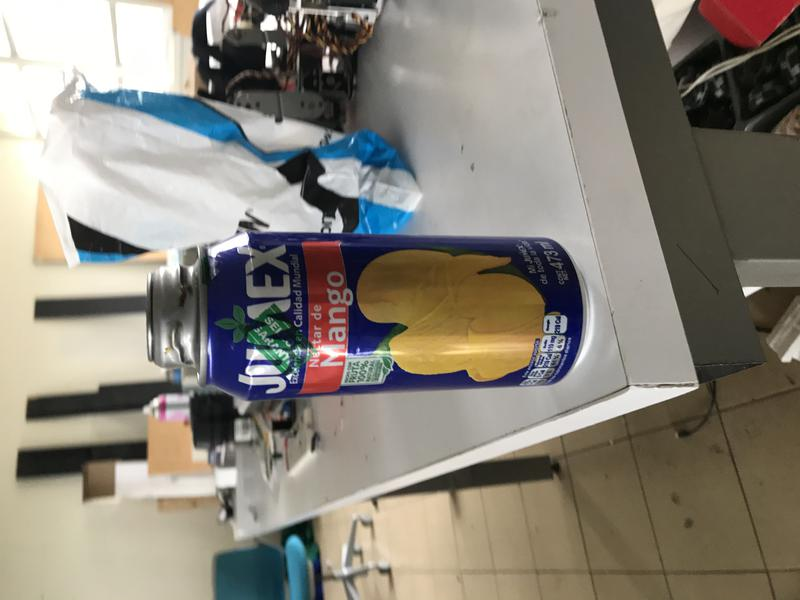jumex_botella: (145, 229, 588, 403)
